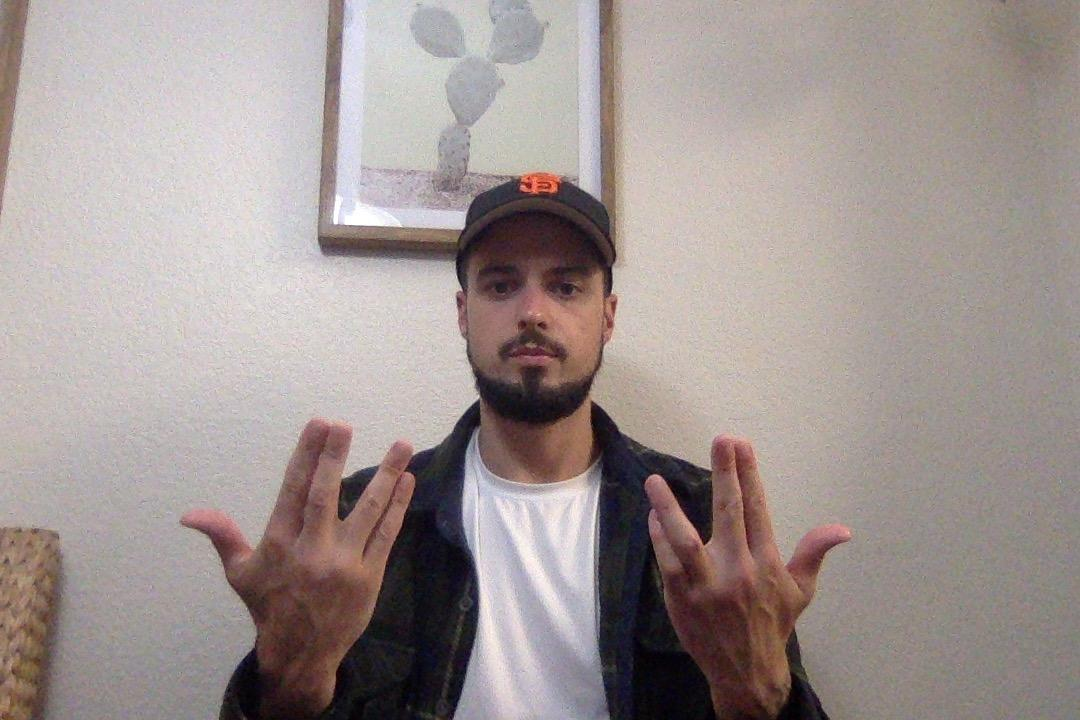Live-Long-Prosper: (177, 417, 419, 690), (630, 432, 860, 684)
